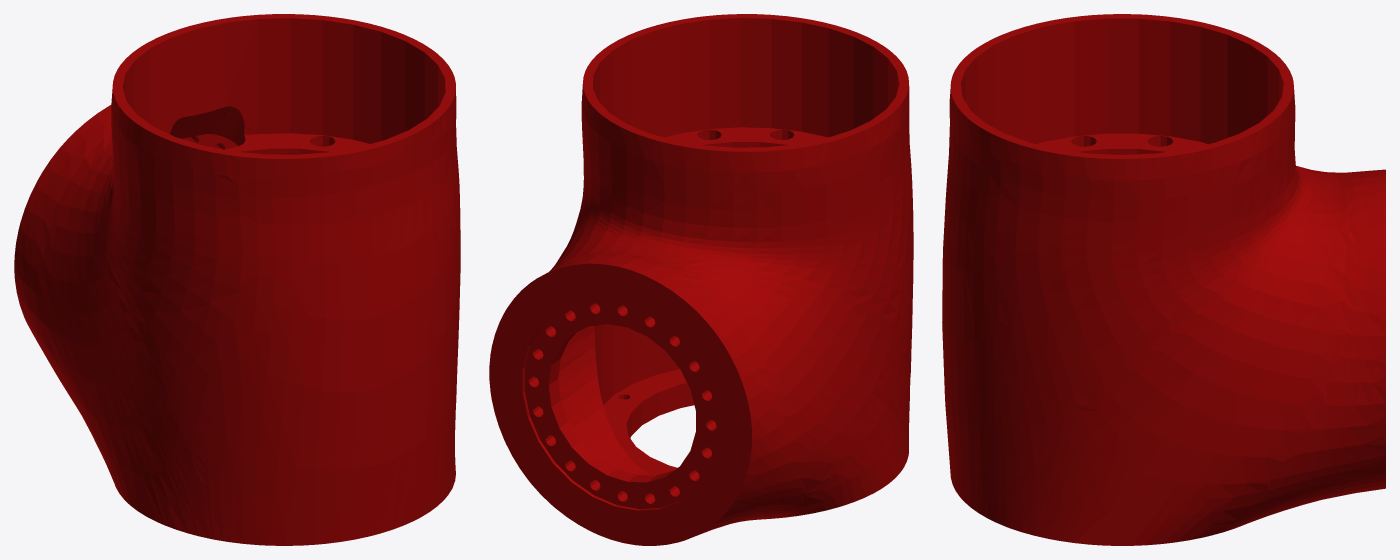
File: L_shoulder1.obj
3 renders of one model, left to right at view 1: azimuth 30°, elevation 25°; view 2: azimuth 150°, elevation 25°; view 3: azimuth 270°, elevation 25°, orthographic. The views are drawn at different scales.
Parts seen in each view (by area): view 1: L_shoulder1; view 2: L_shoulder1; view 3: L_shoulder1.
Part boxes in pixels (box(x1,y1,x2,y2)): L_shoulder1: box(14, 14, 460, 545); L_shoulder1: box(489, 14, 913, 545); L_shoulder1: box(942, 14, 1385, 545).
Bounding box in the file's own units: 0.0874 × 0.107 × 0.1111.
